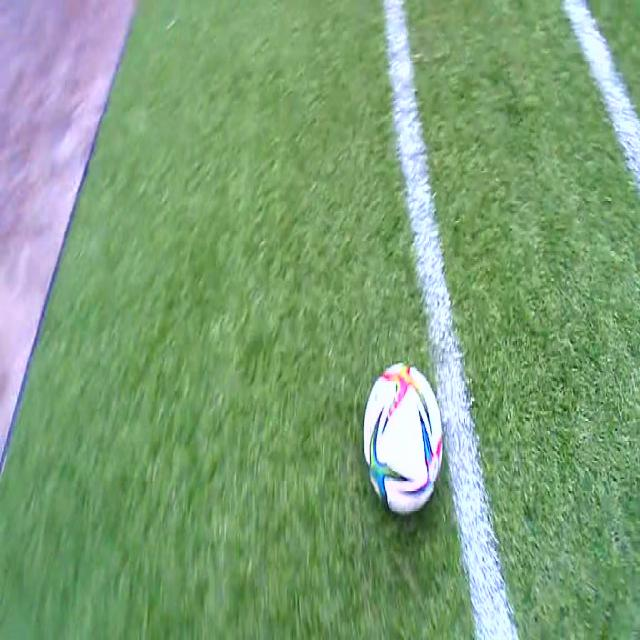ball: (365, 359, 443, 522)
